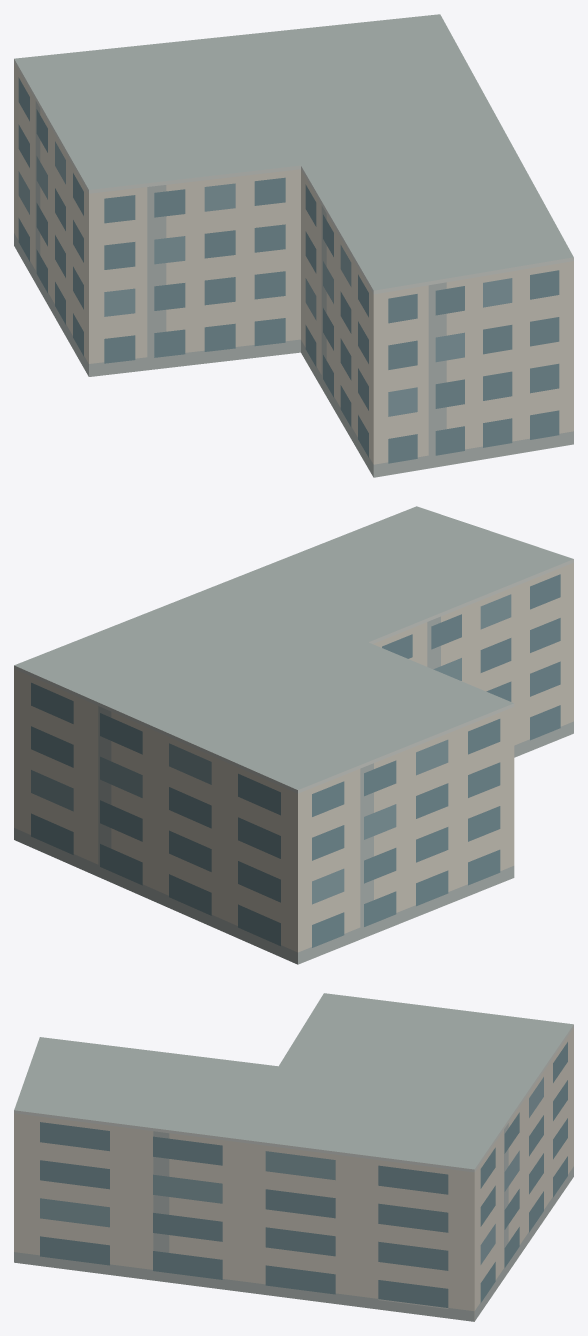
Rendered from residential-a681b62e-ab1c-4aae-b42f-296642d1b9b6.glb.
3 renders of one model, top to bottom at view 1: azimuth 30°, elevation 25°; view 2: azimuth 150°, elevation 25°; view 3: azimuth 270°, elevation 25°, orthographic. The views are drawn at different scales.
Parts seen in each view (by area): view 1: residential-a681b62e-ab1c-4aae-b42f-296642d1b9b6.tmp; view 2: residential-a681b62e-ab1c-4aae-b42f-296642d1b9b6.tmp; view 3: residential-a681b62e-ab1c-4aae-b42f-296642d1b9b6.tmp.
Part boxes in pixels (x1=…): residential-a681b62e-ab1c-4aae-b42f-296642d1b9b6.tmp: x1=14, y1=14, x2=573, y2=477; residential-a681b62e-ab1c-4aae-b42f-296642d1b9b6.tmp: x1=14, y1=506, x2=573, y2=964; residential-a681b62e-ab1c-4aae-b42f-296642d1b9b6.tmp: x1=14, y1=993, x2=573, y2=1321.
Bounding box in the file's own units: 30.3 × 12.2 × 40.63.
